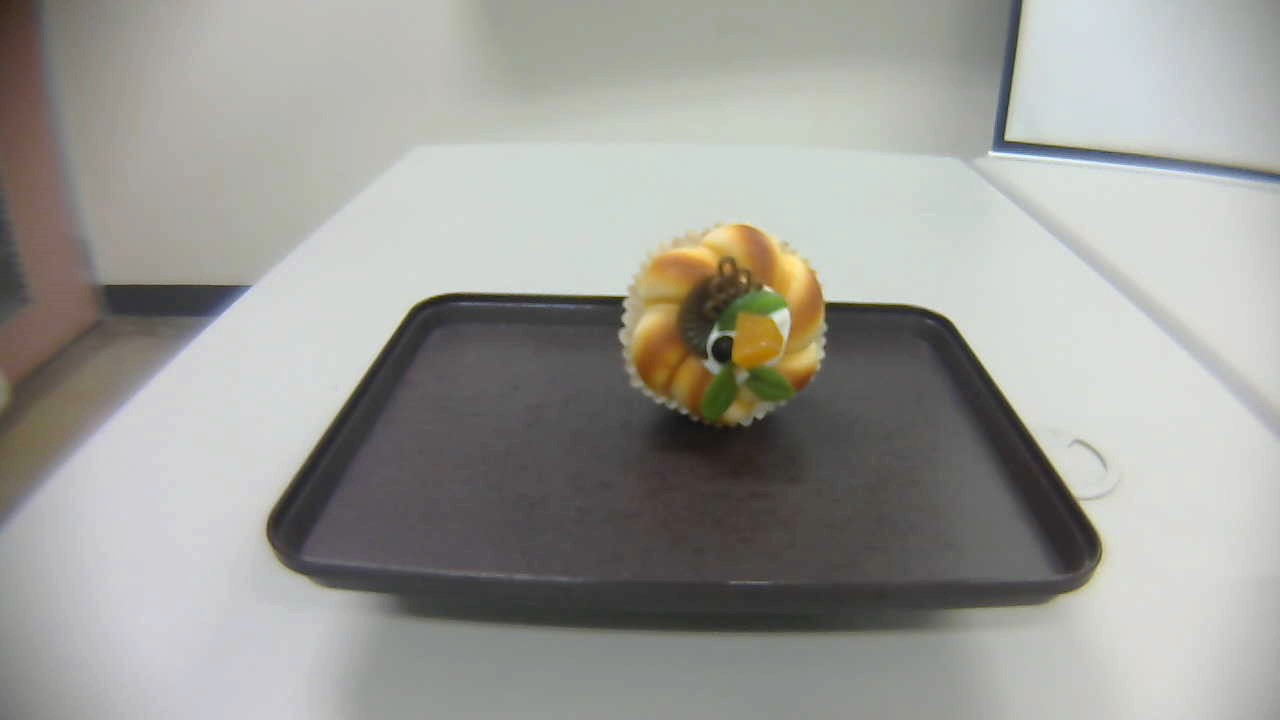fruit tart: (618, 217, 830, 429)
